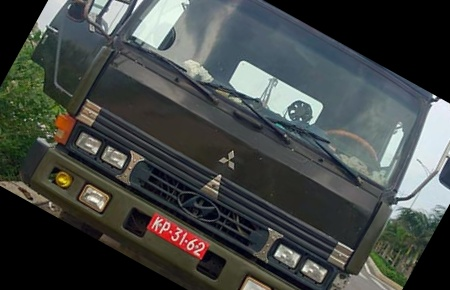plate: (144, 210, 208, 259)
